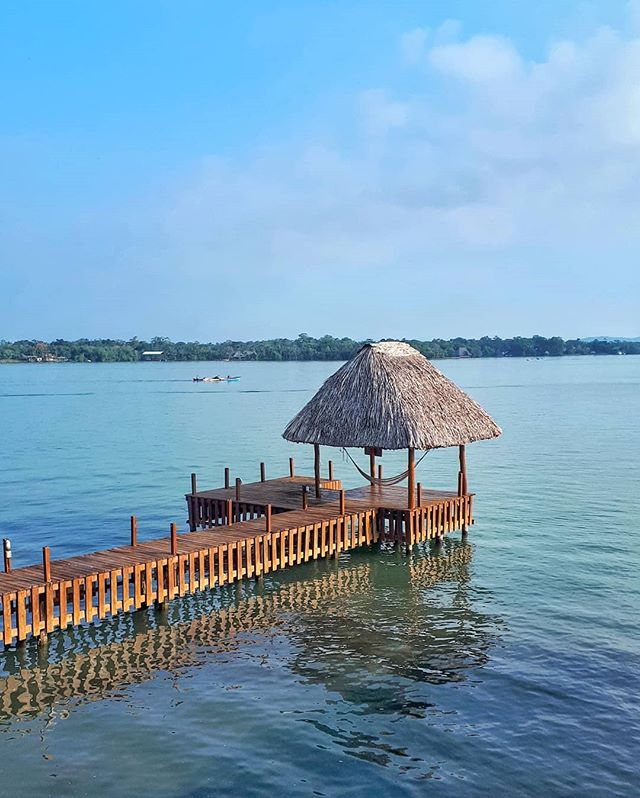river: (1, 367, 640, 798)
sky: (20, 1, 640, 327)
tent: (292, 342, 503, 562)
